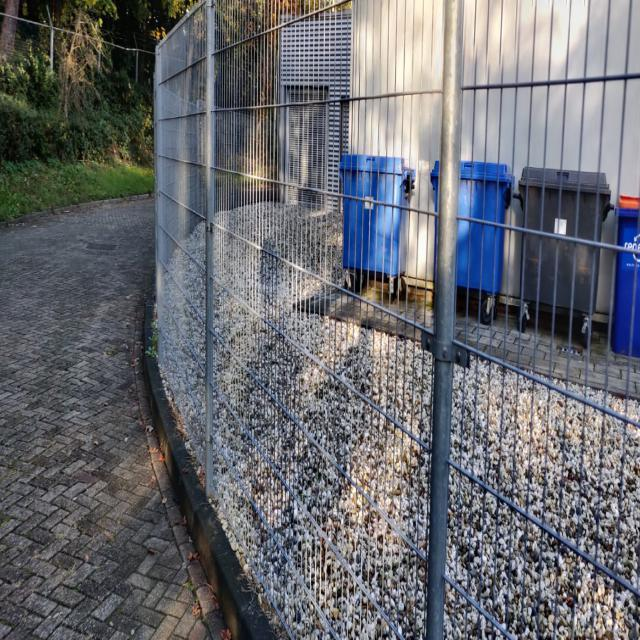fence line: (135, 32, 639, 594)
